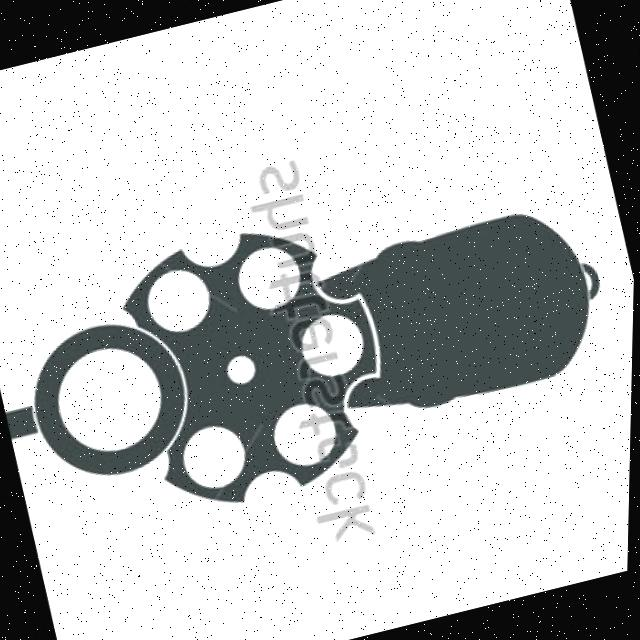pistol: (0, 146, 634, 555)
